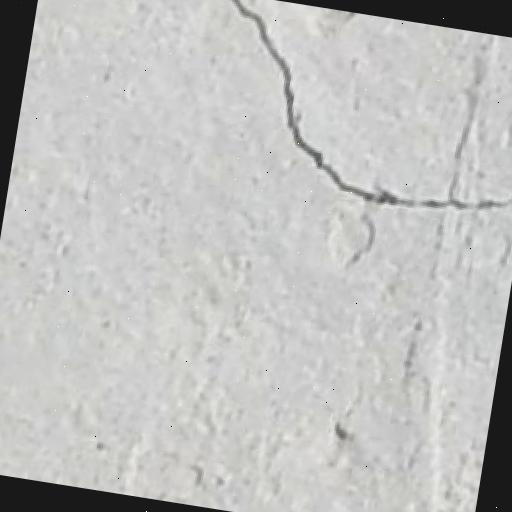spalling: (225, 0, 511, 230)
